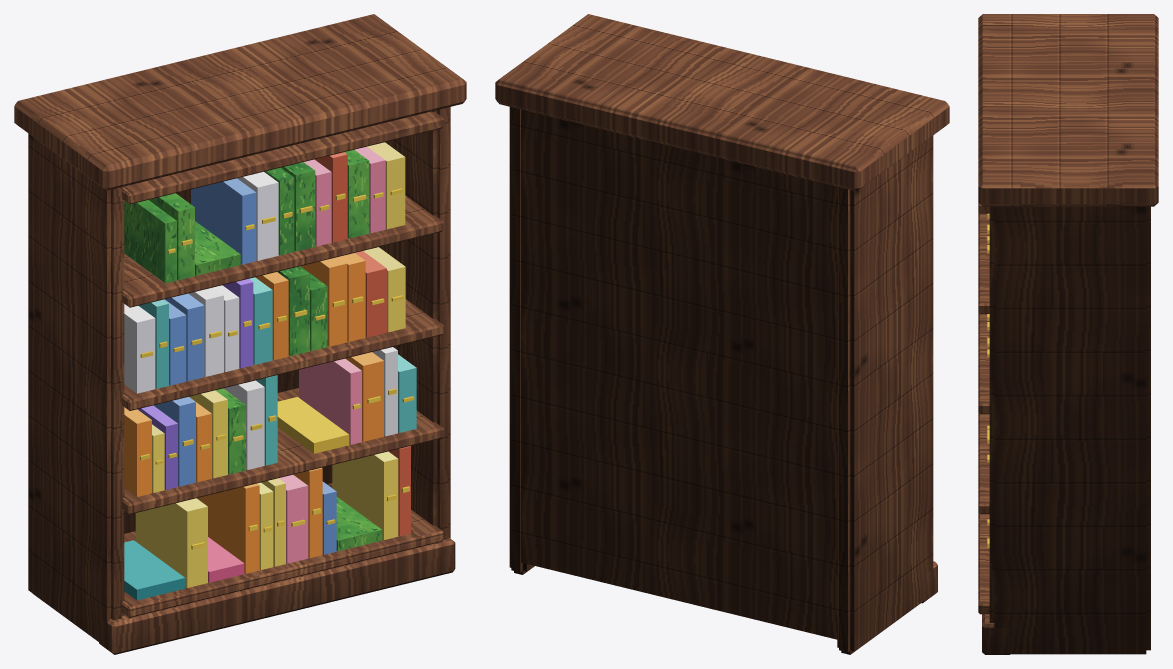
Rendered from shelf.glb.
3 renders of one model, left to right at view 1: azimuth 30°, elevation 25°; view 2: azimuth 150°, elevation 25°; view 3: azimuth 270°, elevation 25°, orthographic. The views are drawn at different scales.
Visible parts, largest first — view 1: shelf; view 2: shelf; view 3: shelf.
Boxes of the visible parts, x1,y1,x2,y2 form: shelf: (14,14,466,654); shelf: (495,14,949,654); shelf: (978,14,1158,654).
Bounding box in the file's own units: 1.06 × 1.37 × 0.47.
13 materials, 13 textured.
